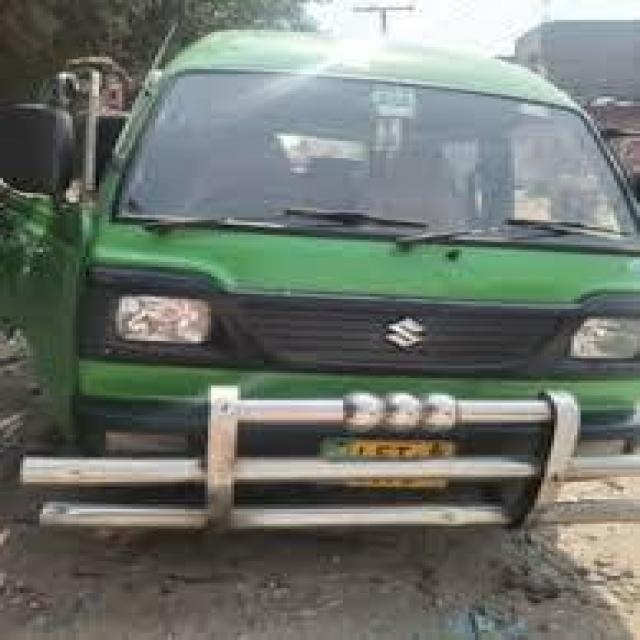Van: (0, 18, 640, 532)
